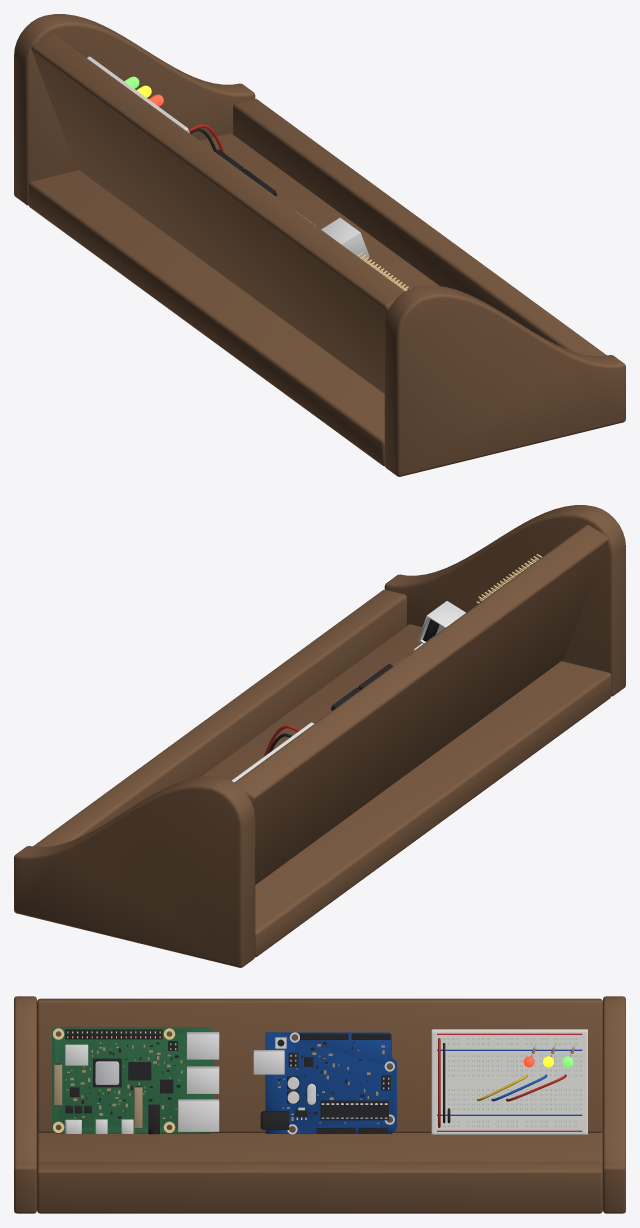
Rendered from iot_tray.fbx.
3 renders of one model, top to bottom at view 1: azimuth 30°, elevation 25°; view 2: azimuth 150°, elevation 25°; view 3: azimuth 270°, elevation 25°, orthographic. The views are drawn at different scales.
Parts seen in each view (by area): view 1: iot_tray; view 2: iot_tray; view 3: iot_tray.
Boxes of the visible parts, box(x1,y1,x2,y2) form: iot_tray: box(14, 14, 625, 476); iot_tray: box(14, 505, 625, 967); iot_tray: box(14, 996, 625, 1213).
Bounding box in the file's own units: 0.11 × 0.32 × 0.08.
